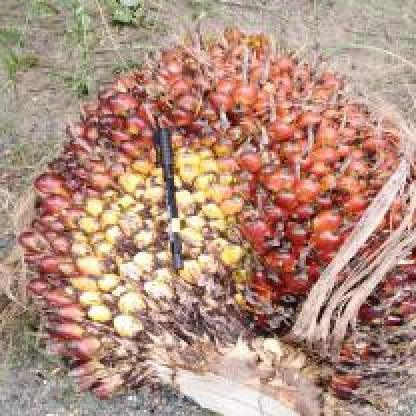overripe: (20, 24, 416, 416)
